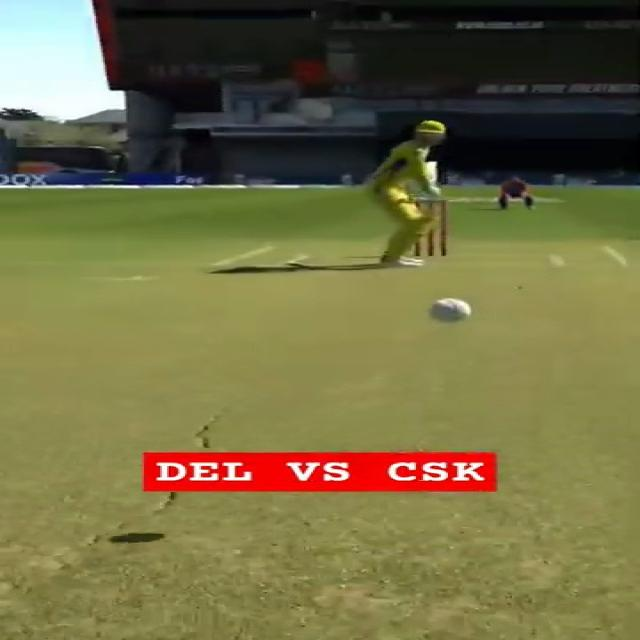ball: (421, 297, 476, 325)
